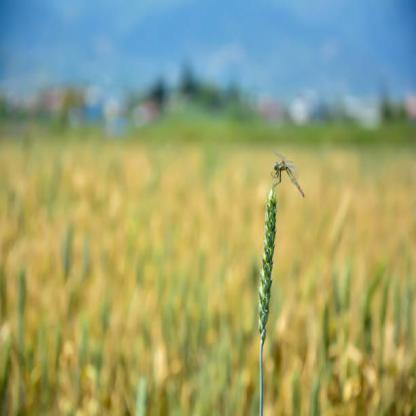sawfly: (268, 145, 308, 203)
